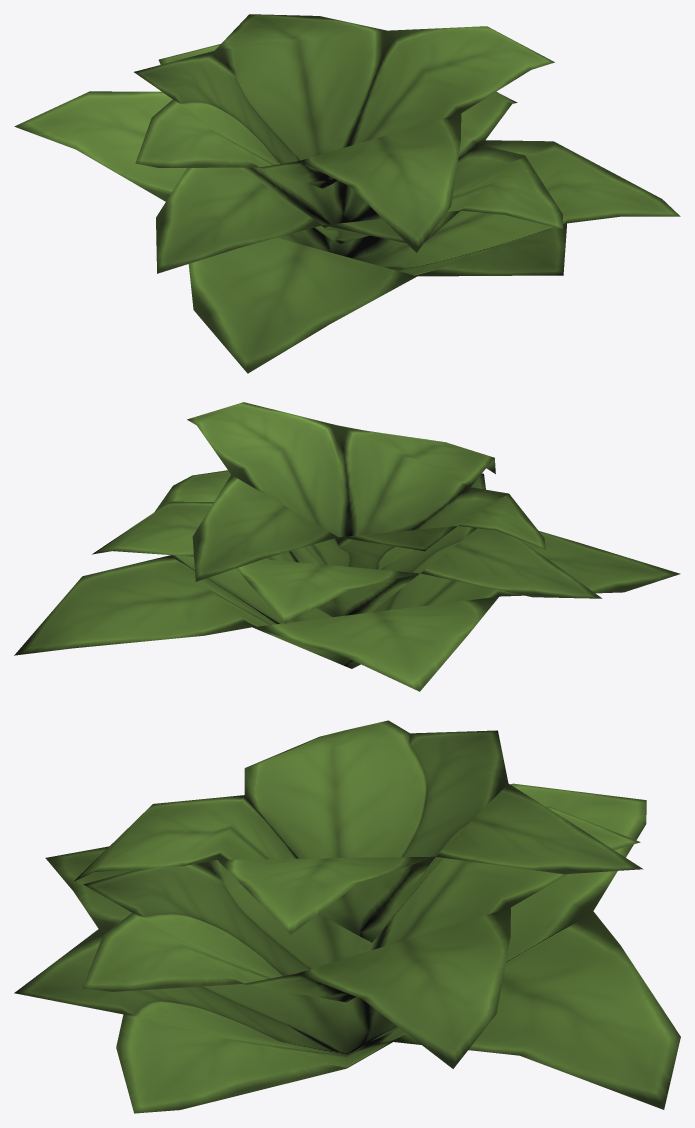
Rendered from Plant01_Med.fbx.
3 views of the same model, one above another, from view 1: azimuth 30°, elevation 25°; view 2: azimuth 150°, elevation 25°; view 3: azimuth 270°, elevation 25° (orthographic). The views are drawn at different scales.
Visible parts, largest first — view 1: Plant01_Med; view 2: Plant01_Med; view 3: Plant01_Med.
Part boxes in pixels (x1=…): Plant01_Med: x1=14, y1=14, x2=680, y2=373; Plant01_Med: x1=14, y1=402, x2=680, y2=691; Plant01_Med: x1=14, y1=720, x2=680, y2=1113.
Bounding box in the file's own units: 30.3 × 13.33 × 30.89.
